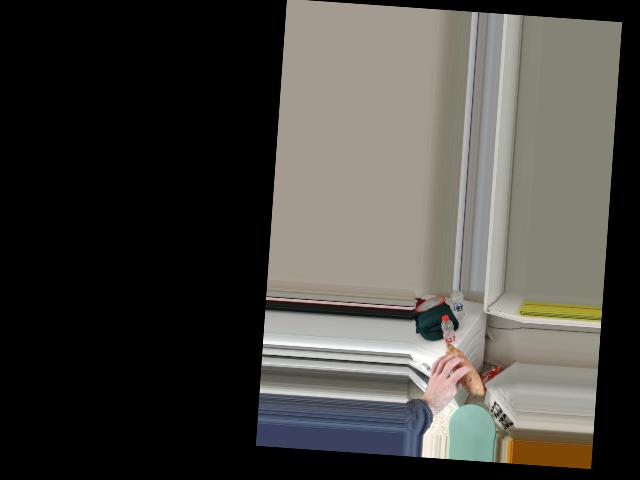sweet_potato: (432, 344, 485, 389)
